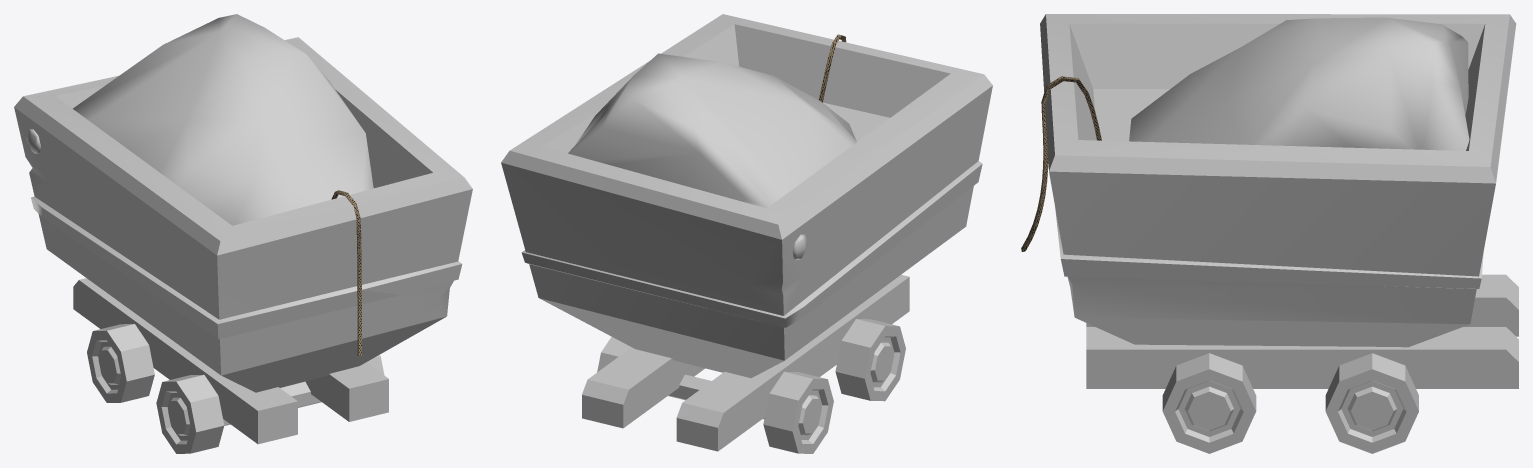
The model's file is JAM_Cart.fbx.
The picture shows the model from 3 angles, left to right: view 1: azimuth 30°, elevation 25°; view 2: azimuth 150°, elevation 25°; view 3: azimuth 270°, elevation 25°; orthographic projection. The views are drawn at different scales.
Parts seen in each view (by area): view 1: PROP_cart; view 2: PROP_cart; view 3: PROP_cart.
Part boxes in pixels (x1,y1,x2,y2): PROP_cart: (14, 14, 472, 453); PROP_cart: (501, 14, 992, 453); PROP_cart: (1021, 14, 1518, 453).
Size of the model in its own units: 2.46 by 2.8 by 3.19.
